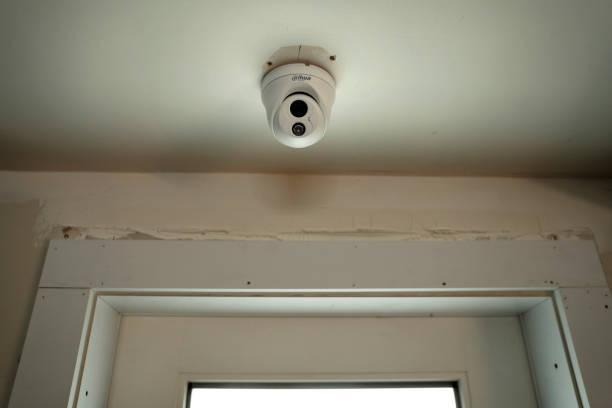camera: (254, 57, 341, 159)
